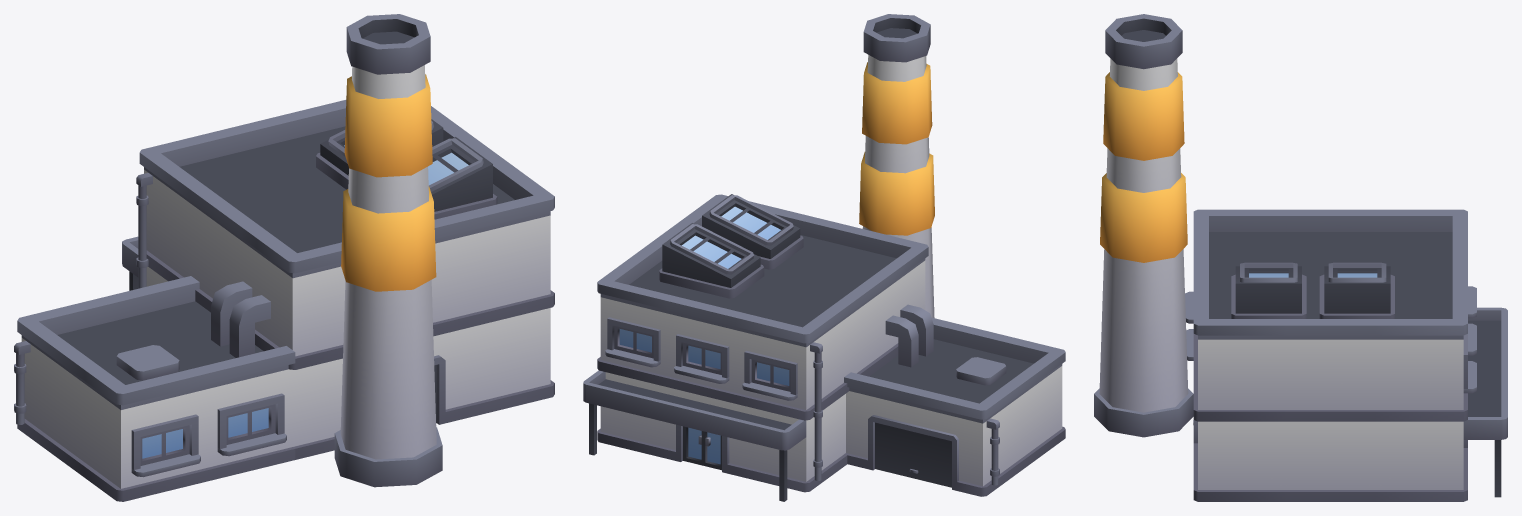
File: building-l.glb
3 renders of one model, left to right at view 1: azimuth 30°, elevation 25°; view 2: azimuth 150°, elevation 25°; view 3: azimuth 270°, elevation 25°, orthographic. The views are drawn at different scales.
Parts seen in each view (by area): view 1: building-l; view 2: building-l; view 3: building-l.
Boxes of the visible parts, x1,y1,x2,y2 form: building-l: [14, 14, 554, 501]; building-l: [583, 14, 1065, 501]; building-l: [1094, 14, 1507, 501].
Bounding box in the file's own units: 2.08 × 1.92 × 1.87.
2 materials, 2 textured.
